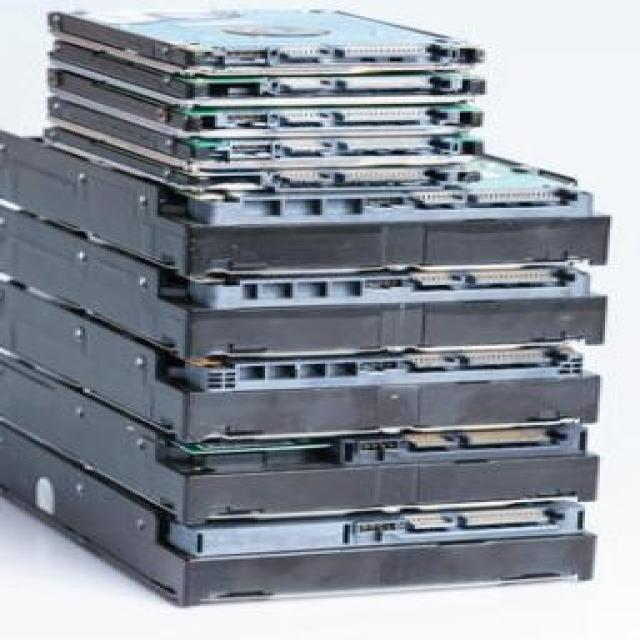electronic: (0, 3, 612, 607)
